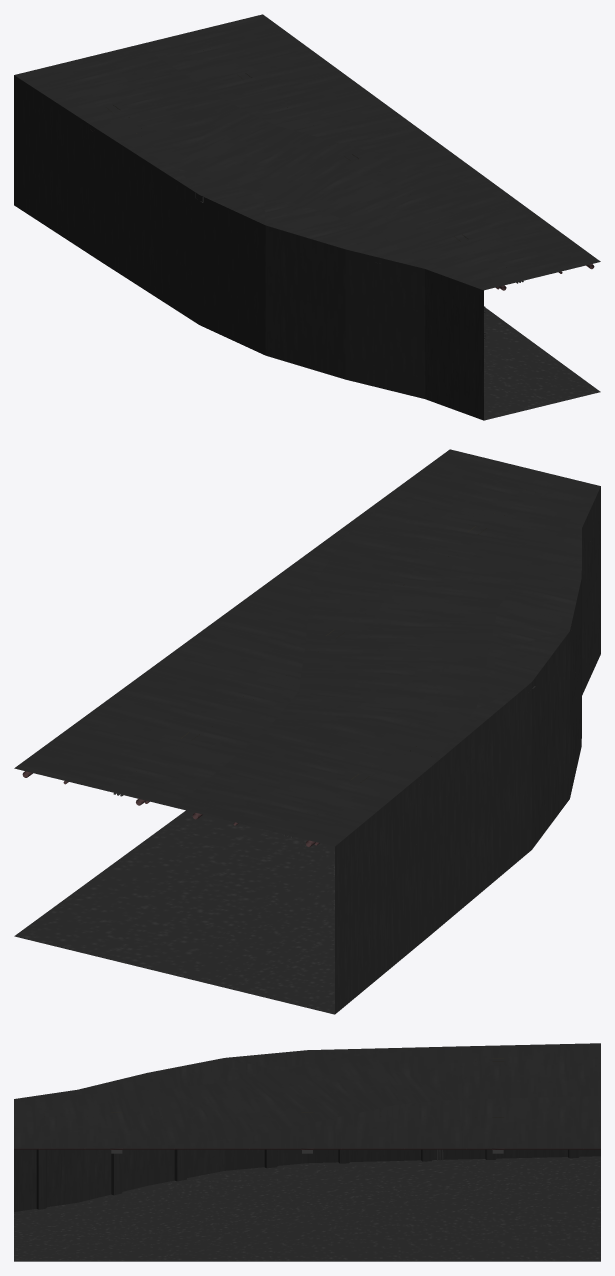
Rendered from SW_ENV_RailTunnel_SingleToDoubleLeft_FF.fbx.
The picture shows the model from 3 angles, top to bottom: view 1: azimuth 30°, elevation 25°; view 2: azimuth 150°, elevation 25°; view 3: azimuth 270°, elevation 25°; orthographic projection. The views are drawn at different scales.
Parts seen in each view (by area): view 1: SW_ENV_RailTunnel_SingleToDoubleLeft_FF; view 2: SW_ENV_RailTunnel_SingleToDoubleLeft_FF; view 3: SW_ENV_RailTunnel_SingleToDoubleLeft_FF.
Boxes of the visible parts, x1,y1,x2,y2 form: SW_ENV_RailTunnel_SingleToDoubleLeft_FF: (14, 14, 600, 420); SW_ENV_RailTunnel_SingleToDoubleLeft_FF: (14, 449, 600, 1014); SW_ENV_RailTunnel_SingleToDoubleLeft_FF: (14, 1043, 600, 1261).
Bounding box in the file's own units: 8.5 × 4.26 × 20.
